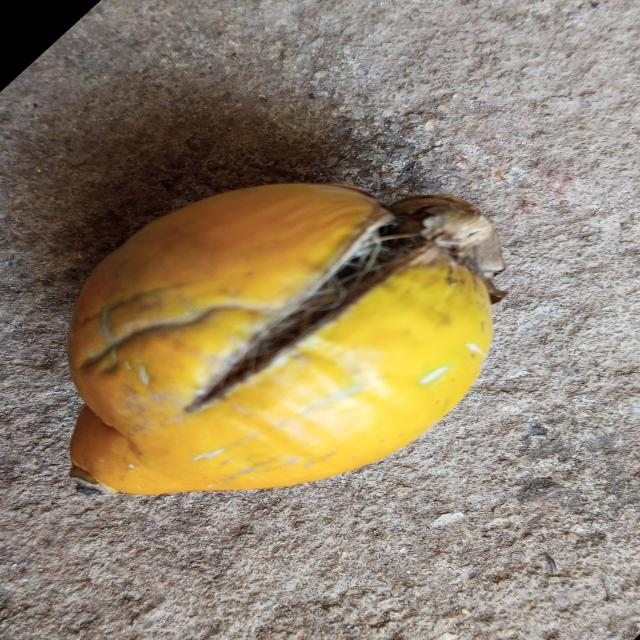damaged: (66, 183, 500, 499)
